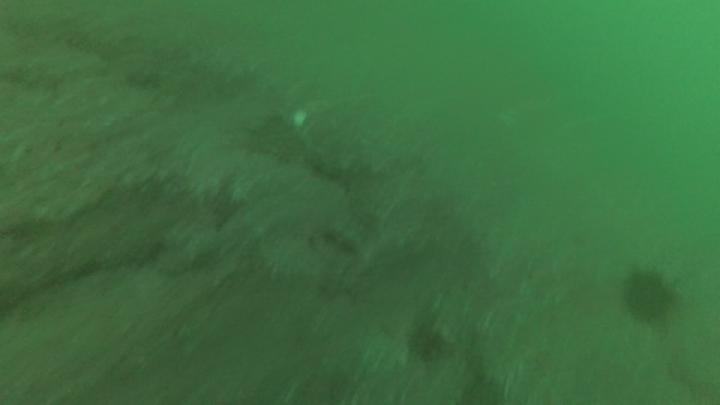echinus: (618, 265, 681, 327)
